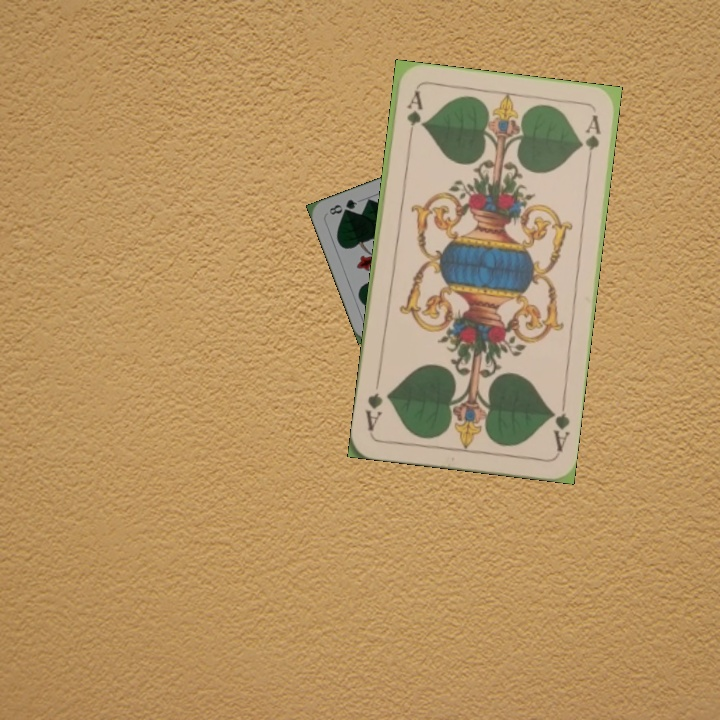GA: (546, 397, 572, 454), (402, 87, 425, 146)
